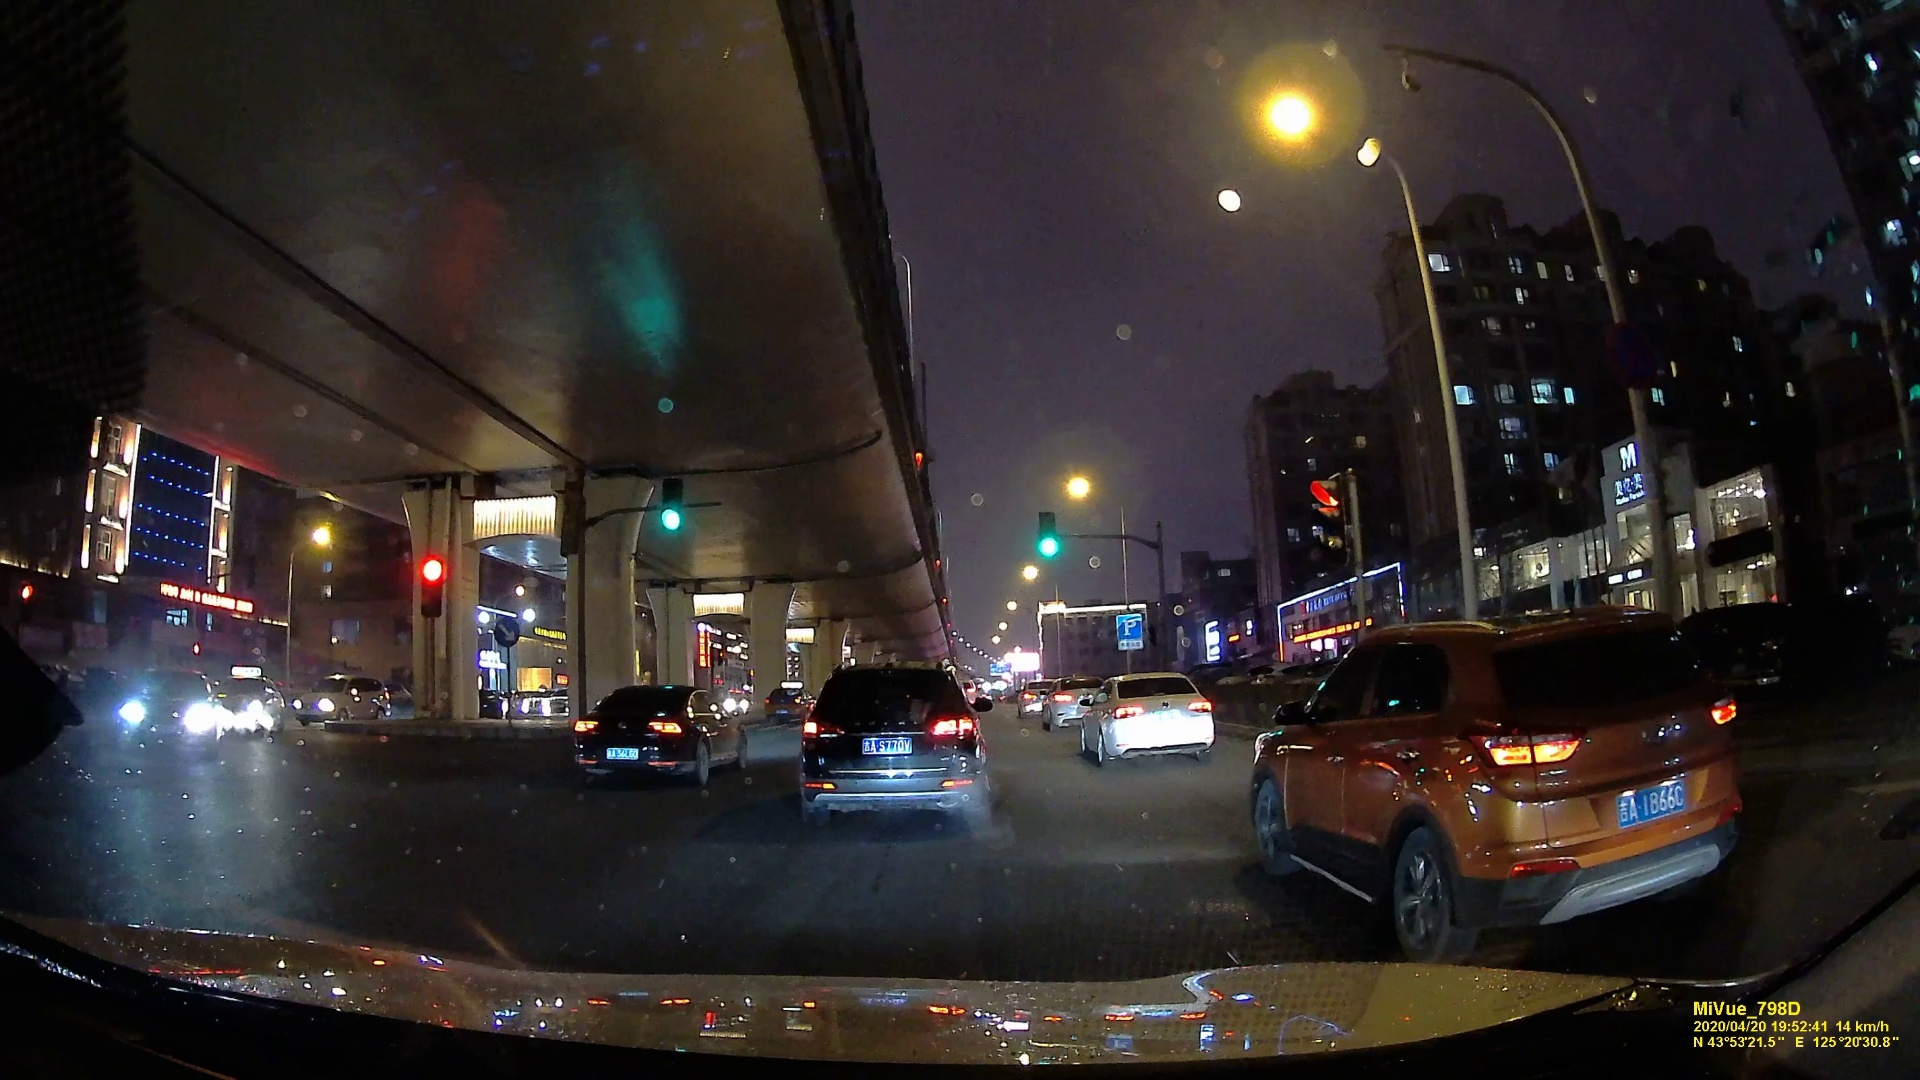traffic_sign: (1309, 476, 1348, 555), (655, 472, 684, 541), (414, 553, 446, 615), (1116, 611, 1145, 651), (1038, 516, 1062, 558)
vehicle: (1244, 620, 1738, 963), (795, 659, 993, 829), (562, 688, 740, 786), (1073, 669, 1218, 764), (104, 669, 218, 750), (291, 673, 389, 727), (1042, 678, 1095, 728), (762, 684, 804, 719), (971, 686, 992, 709)
